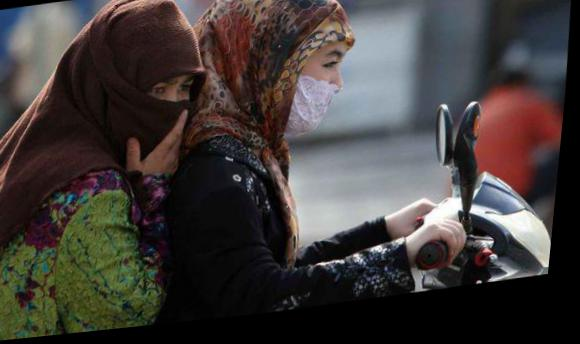OK: (120, 66, 203, 168)
WRONG: (278, 46, 353, 146)
